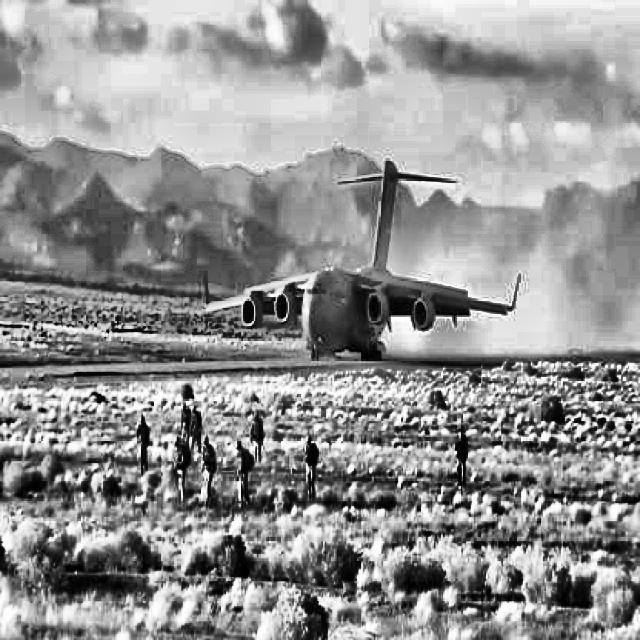C17: (205, 158, 520, 360)
